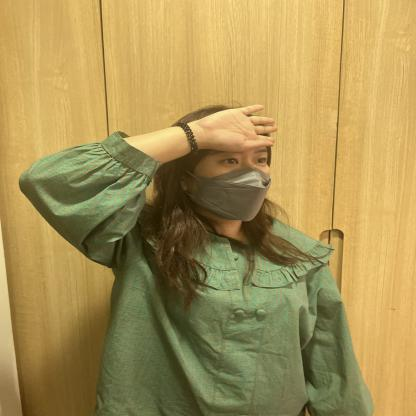Sick: (103, 78, 362, 213)
